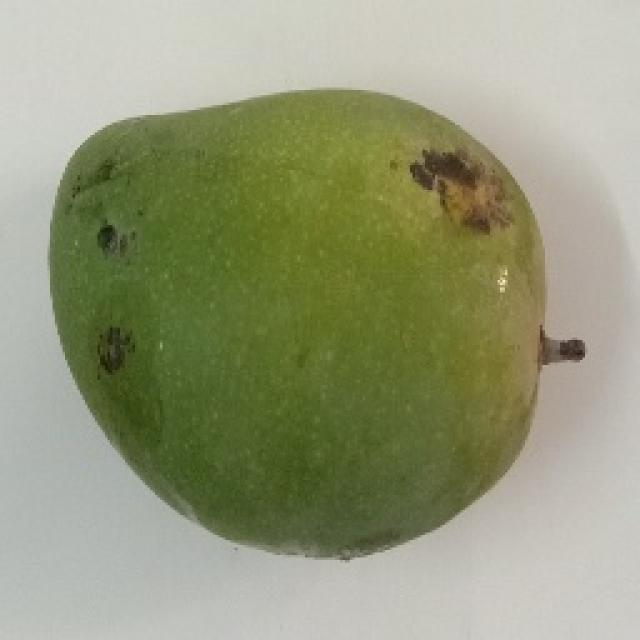defective: (45, 82, 585, 560)
